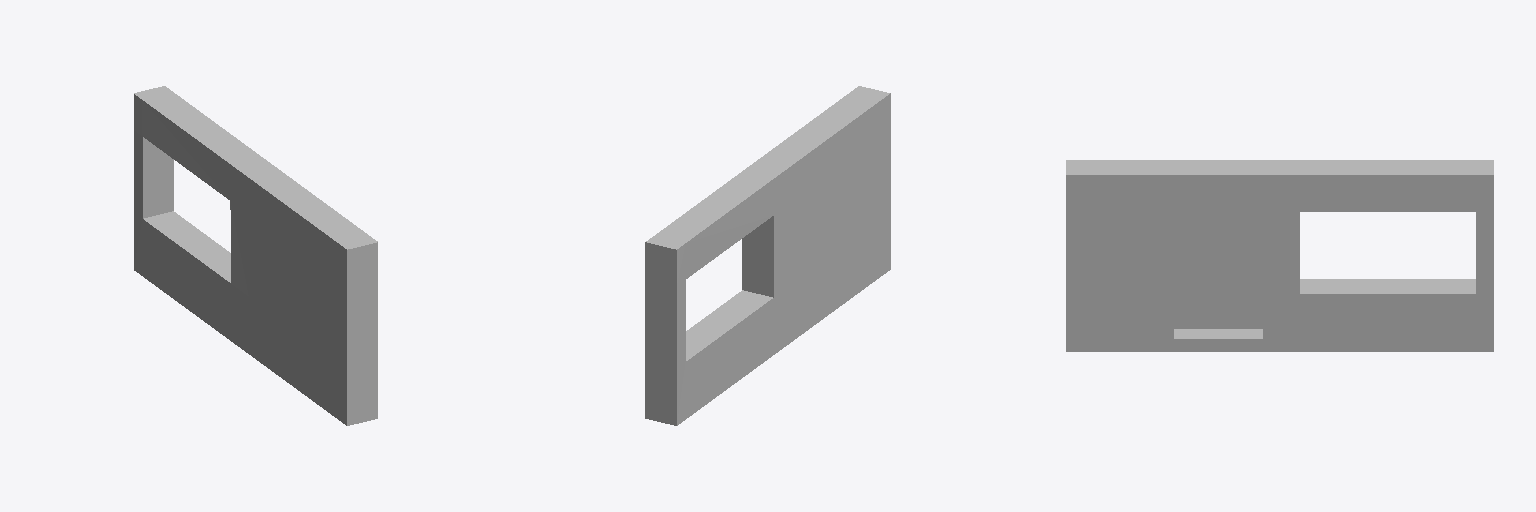
File: frontSideWallLP.obj
3 views of the same model, side by side, from view 1: azimuth 30°, elevation 25°; view 2: azimuth 150°, elevation 25°; view 3: azimuth 270°, elevation 25° (orthographic).
Parts seen in each view (by area): view 1: frontSideWallLP:default1; view 2: frontSideWallLP:default1; view 3: frontSideWallLP:default1.
Boxes of the visible parts, box(x1,y1,x2,y2) form: frontSideWallLP:default1: box(134, 86, 377, 425); frontSideWallLP:default1: box(645, 86, 890, 425); frontSideWallLP:default1: box(1066, 160, 1493, 351).
Bounding box in the file's own units: 1.19 × 6.41 × 14.07.